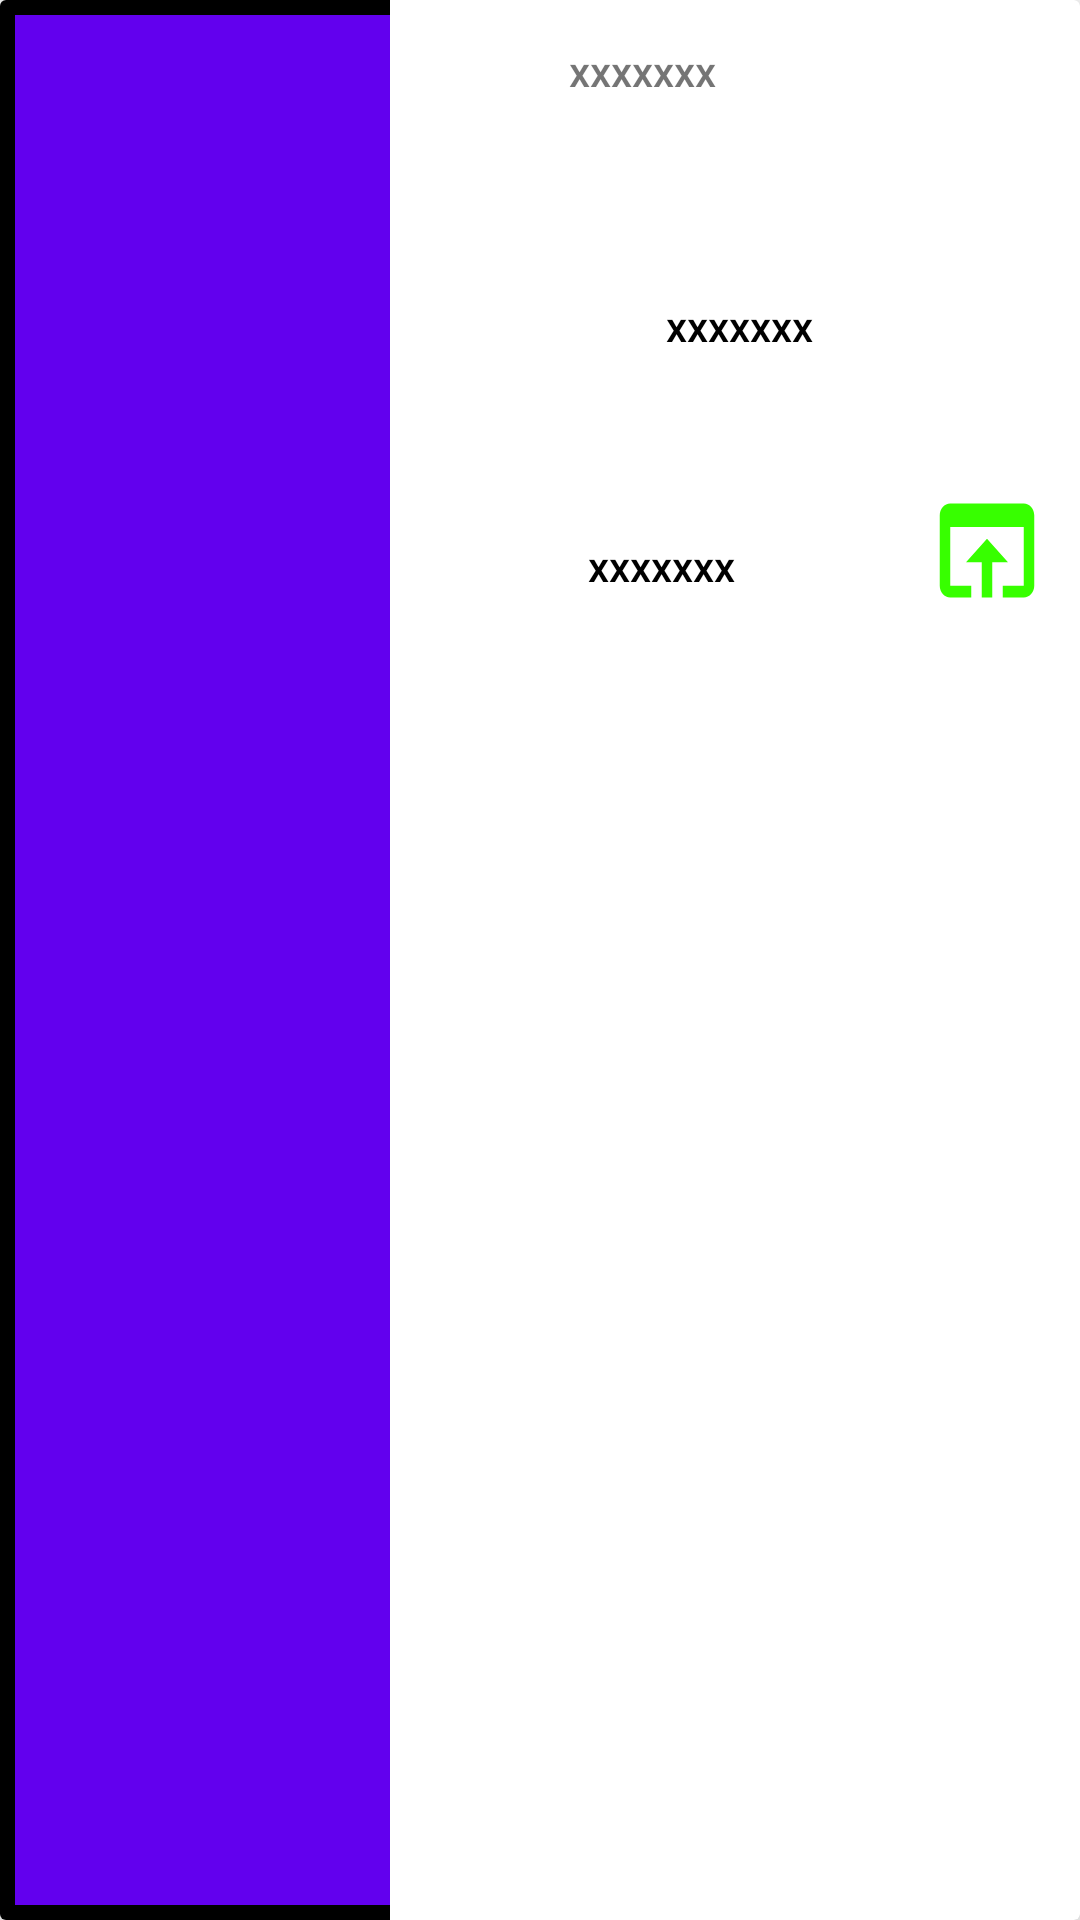

Where to tap for icons on this 1080px x 1920px app screen, as [x,y]:
open in browser: [987,550]
